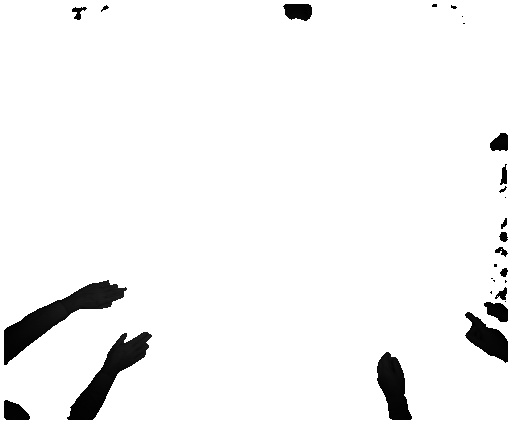hand: (108, 328, 151, 374), (464, 313, 505, 357), (74, 280, 127, 314), (376, 352, 407, 400)
